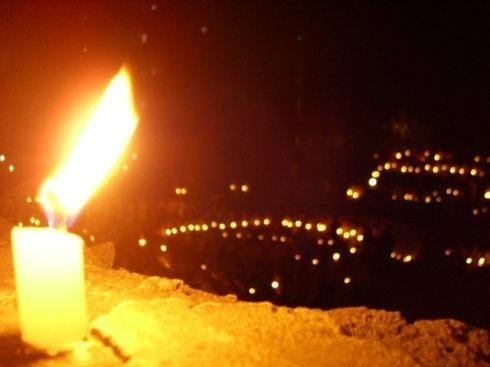fire: (35, 63, 140, 223)
